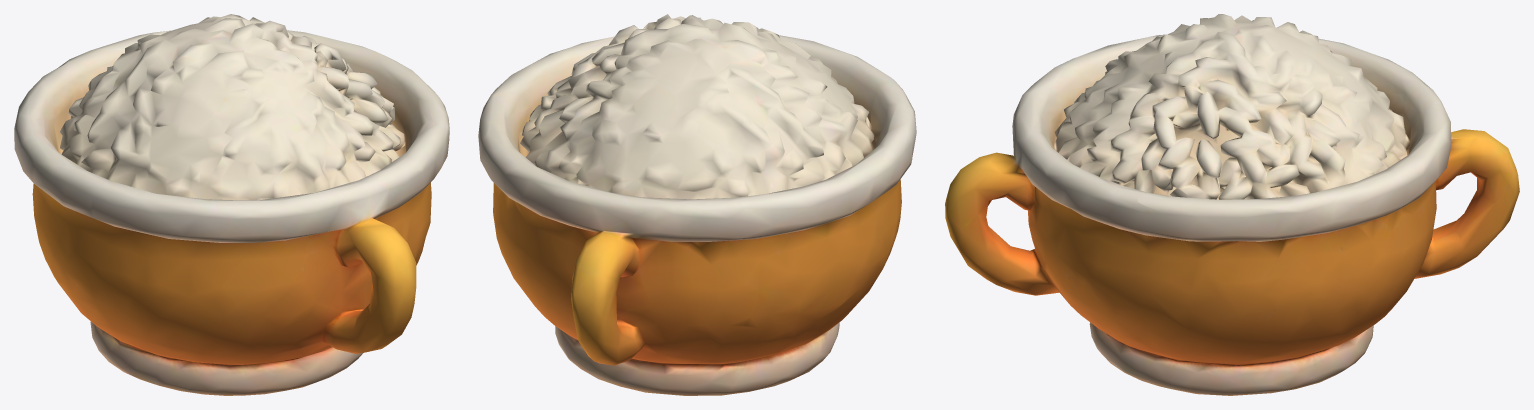
File: food_rice.glb
3 renders of one model, left to right at view 1: azimuth 30°, elevation 25°; view 2: azimuth 150°, elevation 25°; view 3: azimuth 270°, elevation 25°, orthographic.
Visible parts, largest first — view 1: tripo_node_5c6ef7fd-4d40-4ea3-9b00-ef2c269cb997; view 2: tripo_node_5c6ef7fd-4d40-4ea3-9b00-ef2c269cb997; view 3: tripo_node_5c6ef7fd-4d40-4ea3-9b00-ef2c269cb997.
Boxes of the visible parts, x1,y1,x2,y2 form: tripo_node_5c6ef7fd-4d40-4ea3-9b00-ef2c269cb997: (14,14,449,395); tripo_node_5c6ef7fd-4d40-4ea3-9b00-ef2c269cb997: (478,14,916,395); tripo_node_5c6ef7fd-4d40-4ea3-9b00-ef2c269cb997: (945,14,1519,395).
Size of the model in its own units: 0.2275 by 0.18 by 0.302.
Materials: 1 (1 with a texture image).
